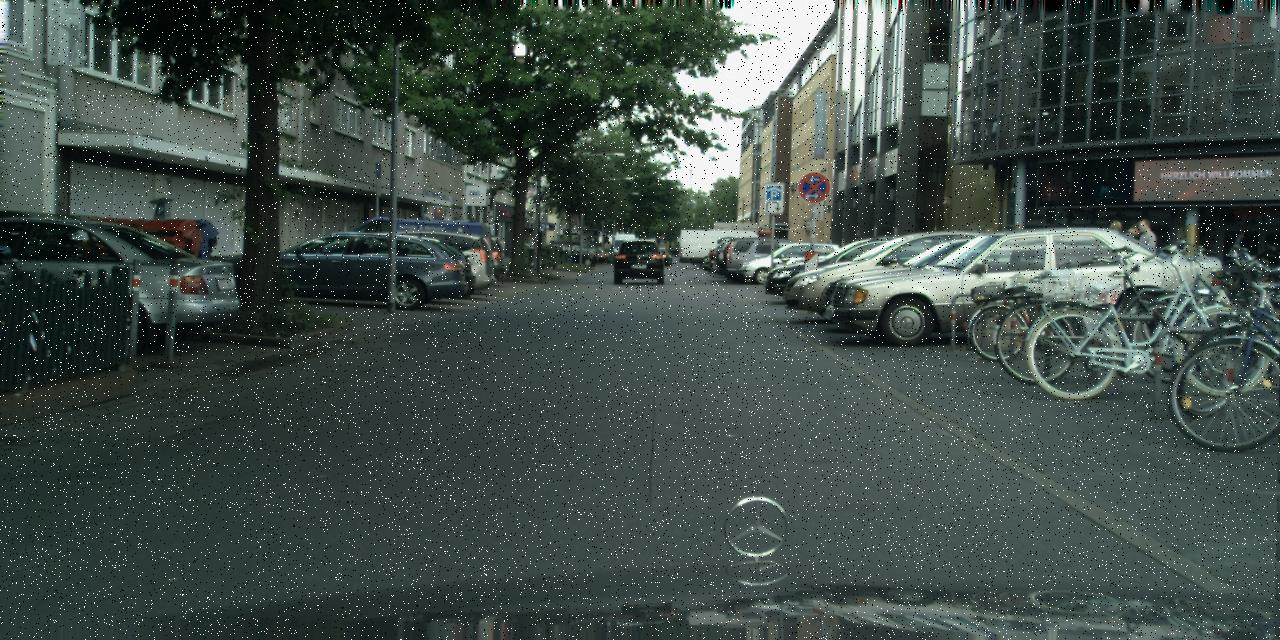ped: (1129, 217, 1160, 295), (1100, 220, 1131, 295), (1118, 221, 1148, 295)
